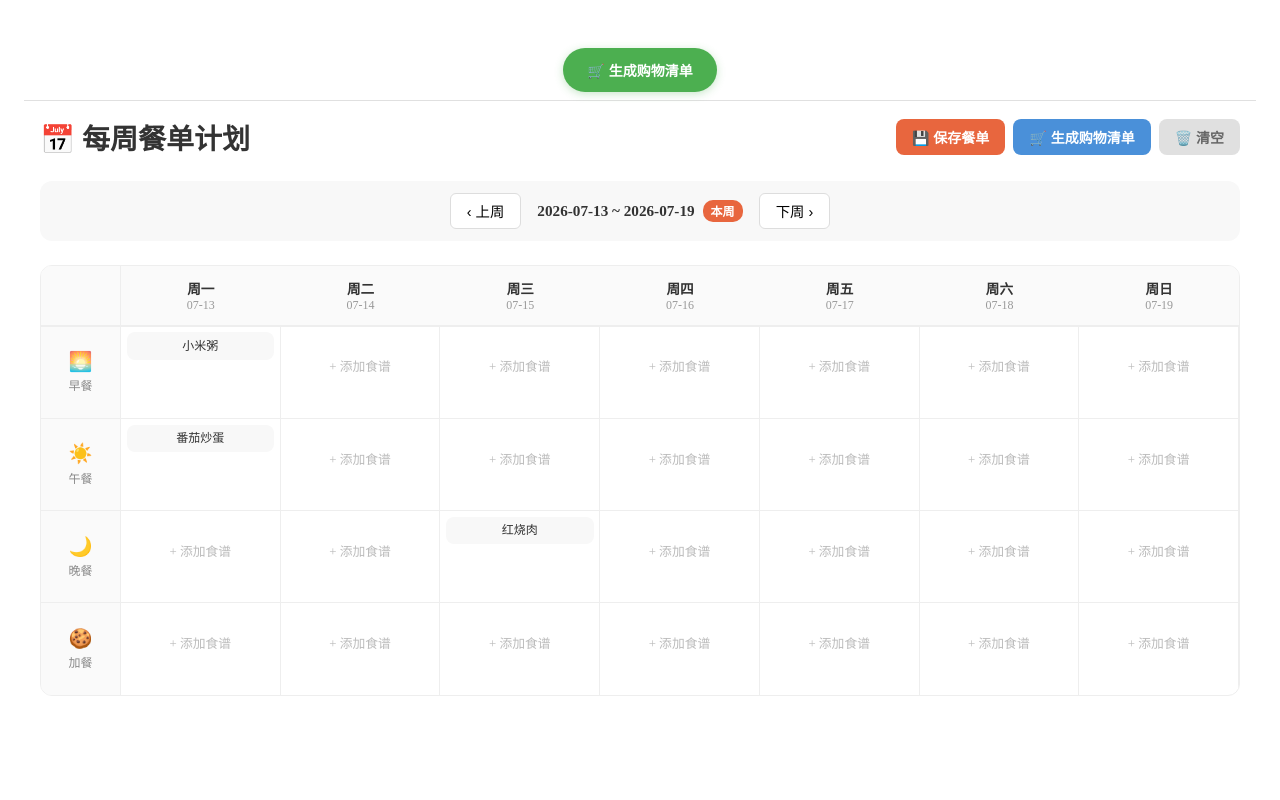
MealPlannerPage › 搜索弹窗 › 搜索无结果时显示空状态
Click the 1st text "+ 添加食谱".
click(360, 367)  # box 329,360 -> 391,374
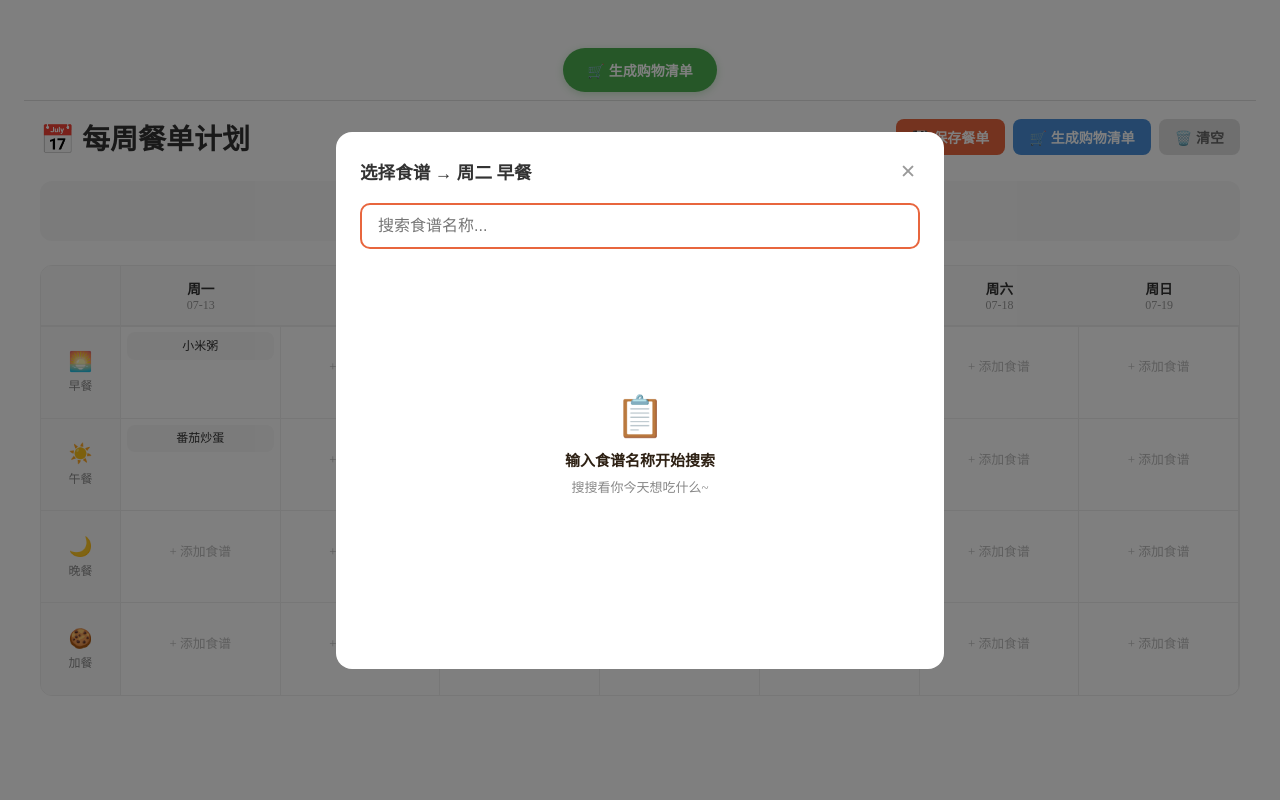
Type "xyznotexist" into the field with placeholder "搜索食谱名称...".
click(640, 226); type("xyznotexist")  # box 360,202 -> 920,248
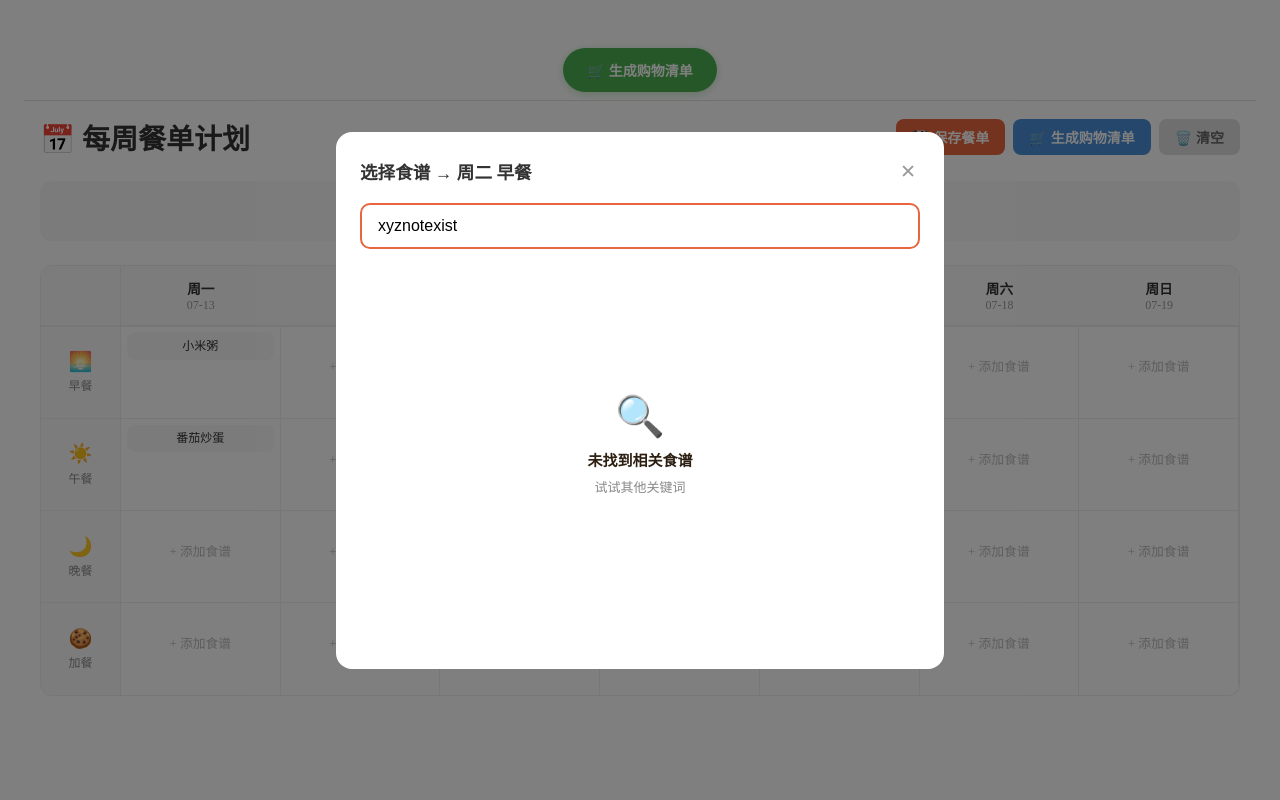
Now the heading "未找到相关食谱" is shown, box 588,449 -> 692,470
